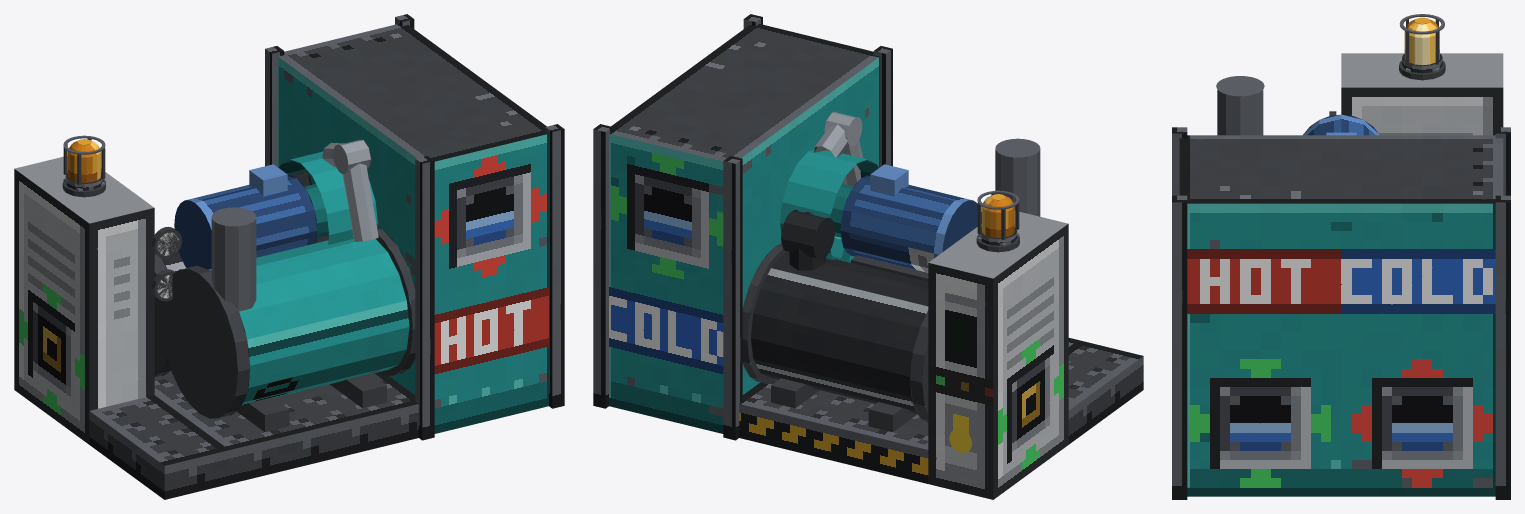
File: chiller.glb
The picture shows the model from 3 angles, left to right: view 1: azimuth 30°, elevation 25°; view 2: azimuth 150°, elevation 25°; view 3: azimuth 270°, elevation 25°; orthographic projection. The views are drawn at different scales.
Visible parts, largest first — view 1: body, body_glow; view 2: body, body_glow; view 3: body, part_0_glow.
Boxes of the visible parts, x1,y1,x2,y2 form: body: (14,14,564,499); body_glow: (68,141,97,182); body: (593,14,1143,499); body_glow: (985,196,1014,237); body: (1172,14,1510,499); part_0_glow: (1405,22,1439,65).
Size of the model in its own units: 3.05 by 2.03 by 2.09.
Materials: 1 (1 with a texture image).
